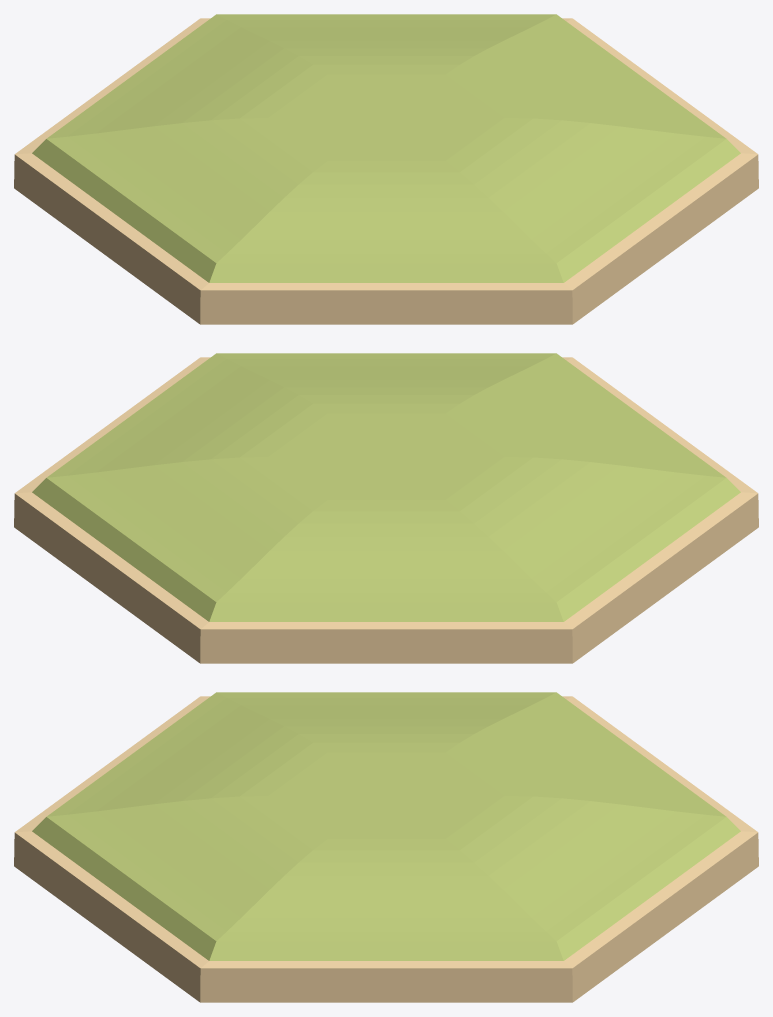
Rendered from Tile_02.fbx.
3 renders of one model, top to bottom at view 1: azimuth 30°, elevation 25°; view 2: azimuth 150°, elevation 25°; view 3: azimuth 270°, elevation 25°, orthographic.
Visible parts, largest first — view 1: Cylinder; view 2: Cylinder; view 3: Cylinder.
Boxes of the visible parts, <box> form: Cylinder: <box>14,14,758,324</box>; Cylinder: <box>14,353,758,663</box>; Cylinder: <box>14,692,758,1002</box>.
Bounding box in the file's own units: 170 × 20.51 × 196.
